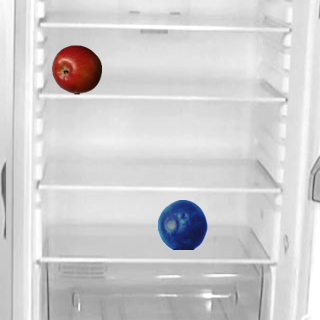Apple Braeburn: (51, 44, 101, 94)
Huckleberry: (157, 199, 207, 249)
